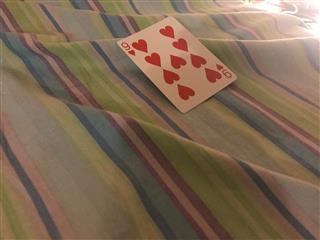NineOfHearts: (115, 15, 238, 113)
